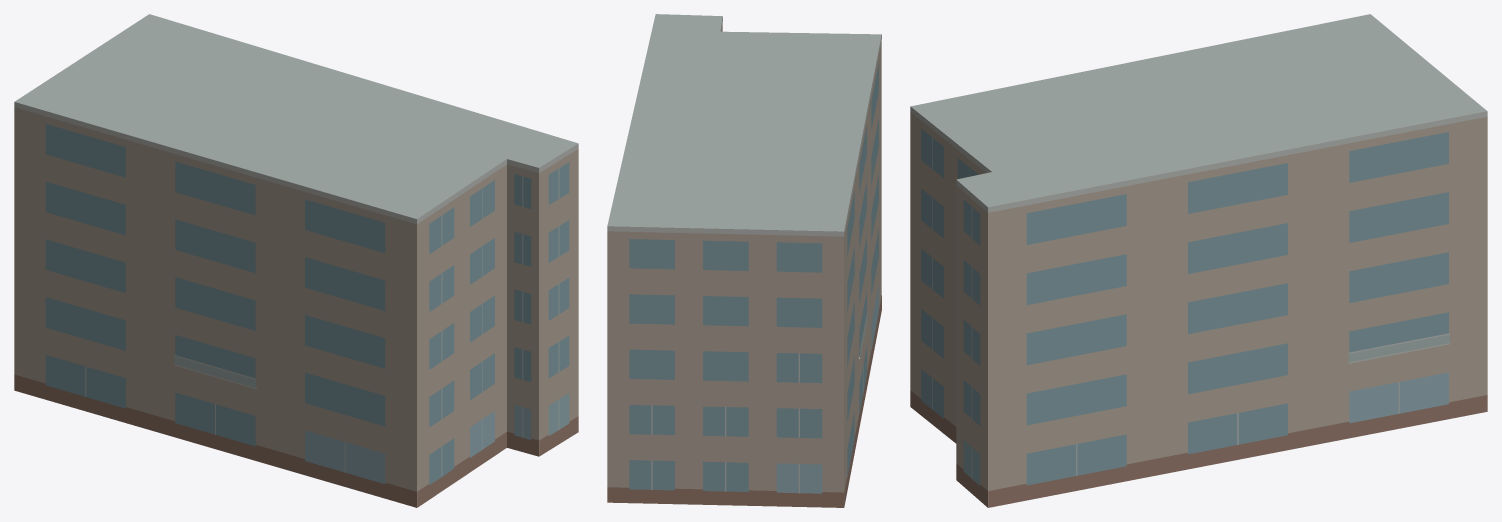
File: survey-upis-33029420.glb
3 renders of one model, left to right at view 1: azimuth 30°, elevation 25°; view 2: azimuth 150°, elevation 25°; view 3: azimuth 270°, elevation 25°, orthographic. The views are drawn at different scales.
Visible parts, largest first — view 1: survey-upis-33029420.tmp; view 2: survey-upis-33029420.tmp; view 3: survey-upis-33029420.tmp.
Boxes of the visible parts, x1,y1,x2,y2 form: survey-upis-33029420.tmp: [14, 14, 578, 507]; survey-upis-33029420.tmp: [607, 14, 881, 507]; survey-upis-33029420.tmp: [910, 14, 1487, 507].
Bounding box in the file's own units: 18.5 × 13.4 × 23.33.
